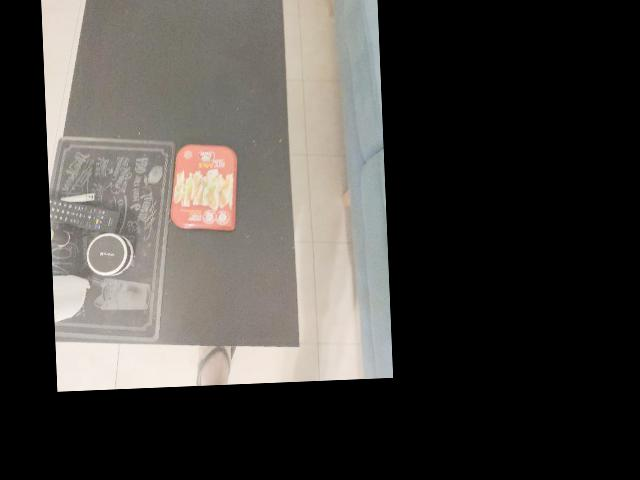cheese: (170, 142, 241, 241)
